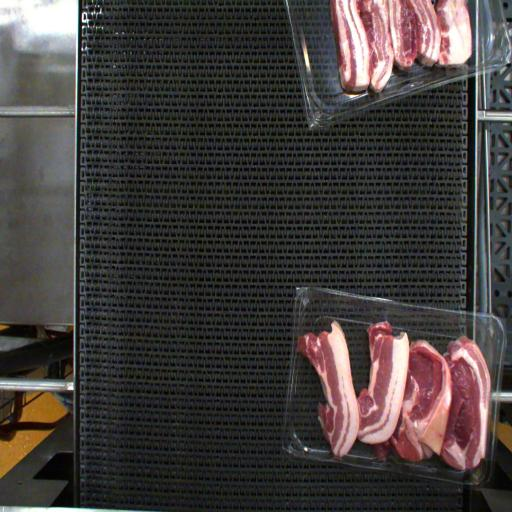loose-meat: (302, 310, 362, 468)
